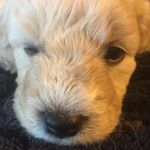puppy: (1, 1, 149, 148)
